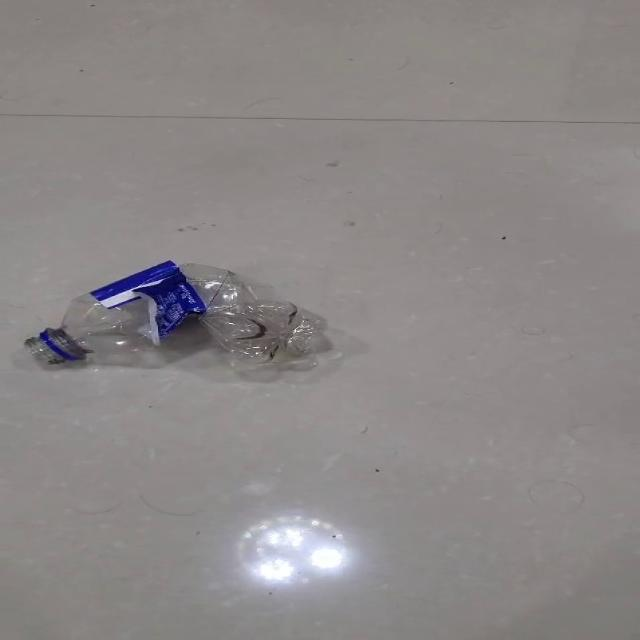plastic: (23, 259, 334, 371)
